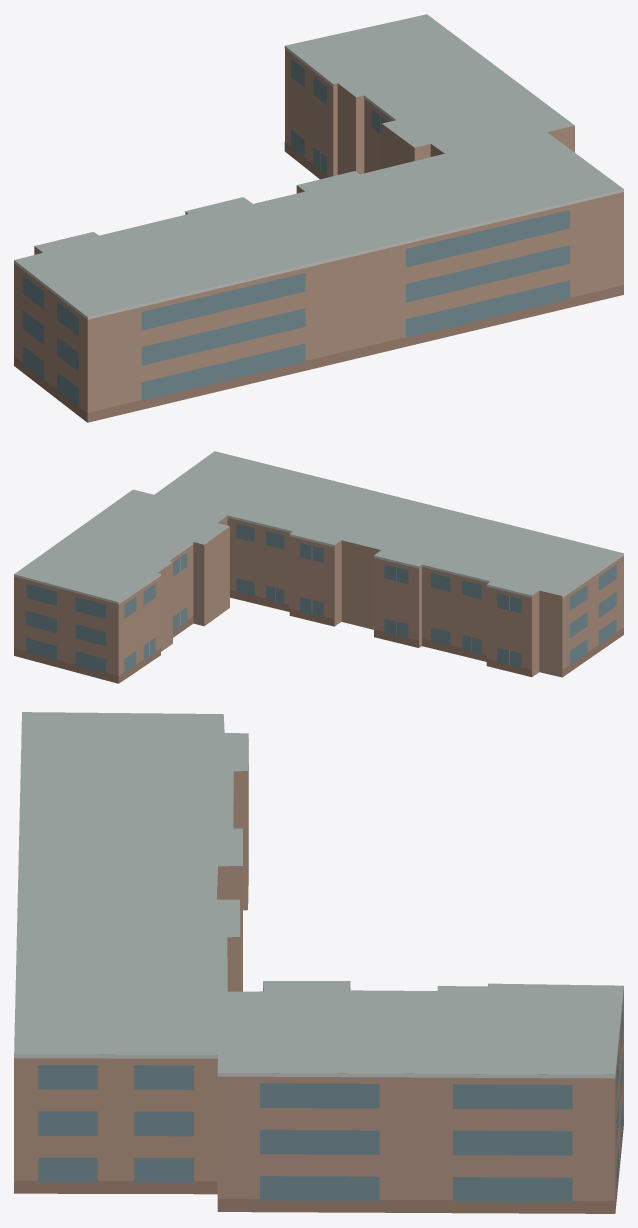
File: survey-upis-32887146.glb
The picture shows the model from 3 angles, top to bottom: view 1: azimuth 30°, elevation 25°; view 2: azimuth 150°, elevation 25°; view 3: azimuth 270°, elevation 25°; orthographic projection. The views are drawn at different scales.
Parts seen in each view (by area): view 1: survey-upis-32887146.tmp; view 2: survey-upis-32887146.tmp; view 3: survey-upis-32887146.tmp.
Part boxes in pixels (box(x1,y1,x2,y2)): survey-upis-32887146.tmp: box(14, 14, 623, 422); survey-upis-32887146.tmp: box(14, 451, 623, 683); survey-upis-32887146.tmp: box(14, 712, 623, 1213).
Size of the model in its own units: 51.19 by 9.15 by 36.37.
